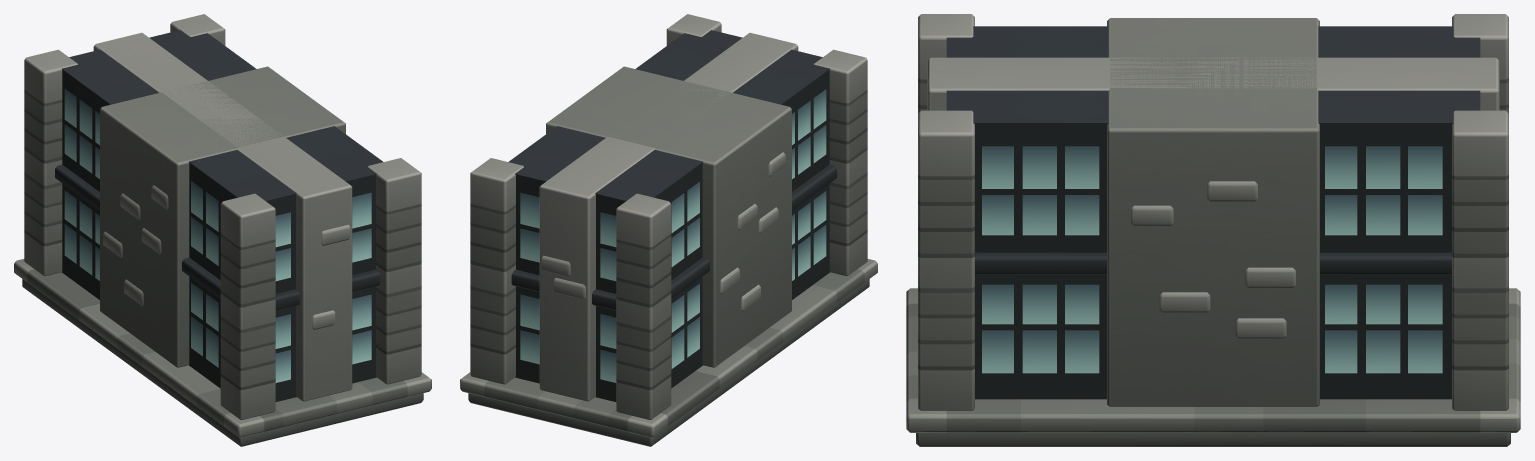
Rendered from office_building_type2_double_floor_grey.fbx.
The picture shows the model from 3 angles, left to right: view 1: azimuth 30°, elevation 25°; view 2: azimuth 150°, elevation 25°; view 3: azimuth 270°, elevation 25°; orthographic projection. The views are drawn at different scales.
Visible parts, largest first — view 1: office_building_type2_double_floor_grey; view 2: office_building_type2_double_floor_grey; view 3: office_building_type2_double_floor_grey.
Boxes of the visible parts, box(x1,y1,x2,y2) form: office_building_type2_double_floor_grey: box(14, 14, 431, 446); office_building_type2_double_floor_grey: box(460, 14, 877, 446); office_building_type2_double_floor_grey: box(906, 14, 1520, 446).
Size of the model in its own units: 800 by 909 by 1610.
